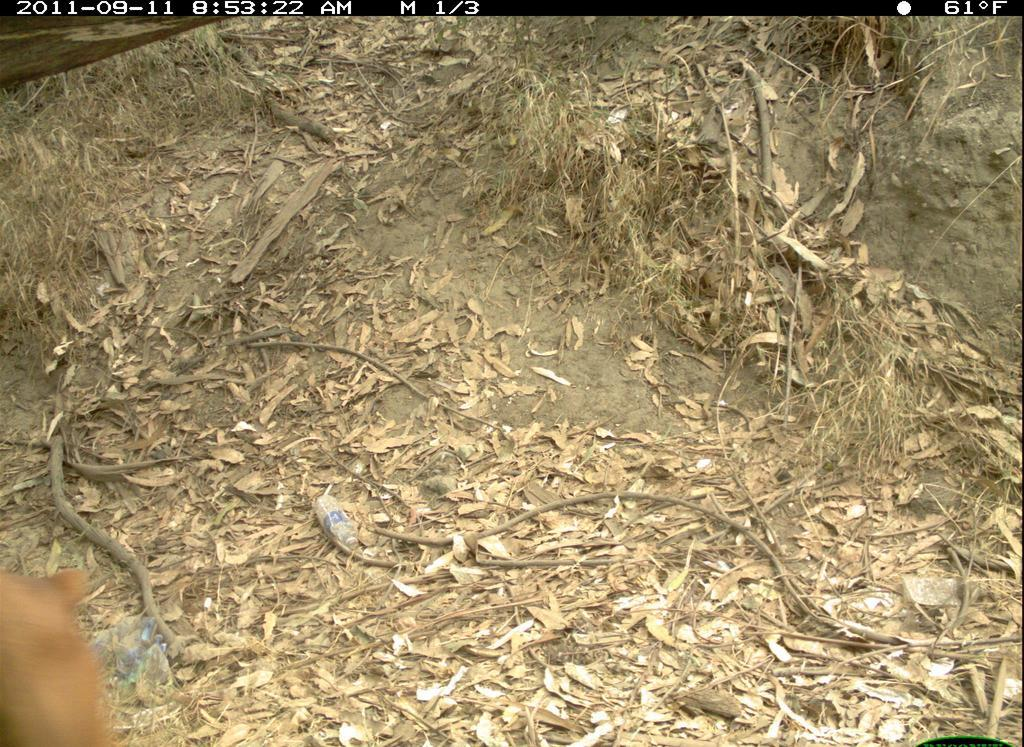dog: (7, 552, 137, 742)
